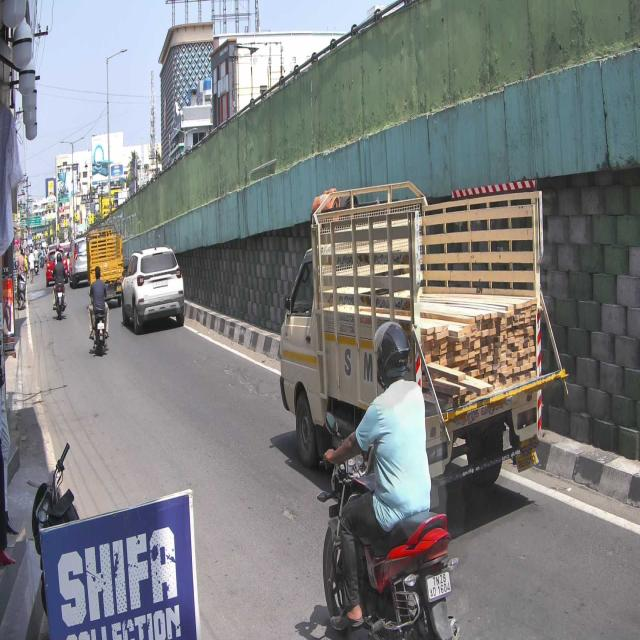single_rider: (316, 320, 461, 640)
